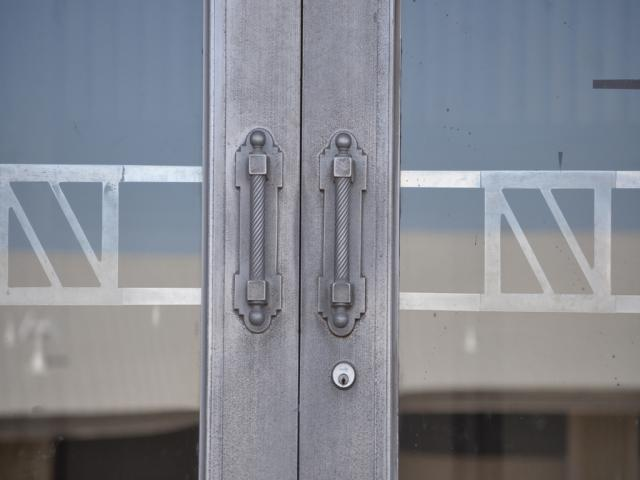Door-handle: (312, 128, 368, 338), (231, 124, 283, 336)
